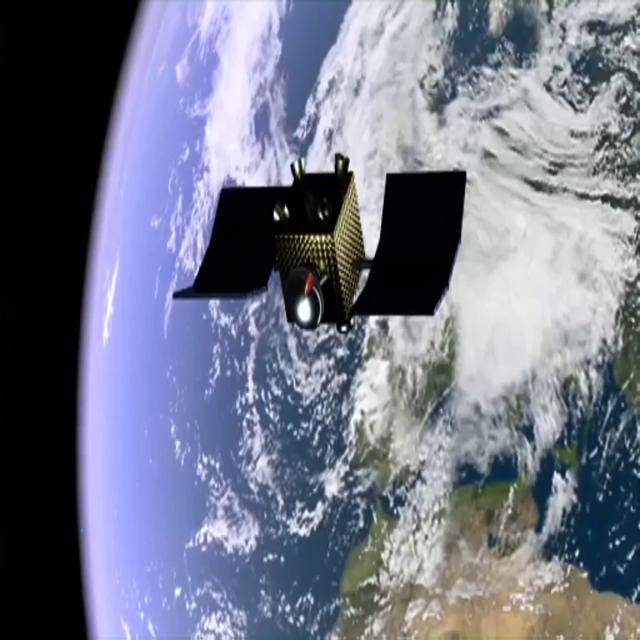satellite: (170, 130, 482, 389)
